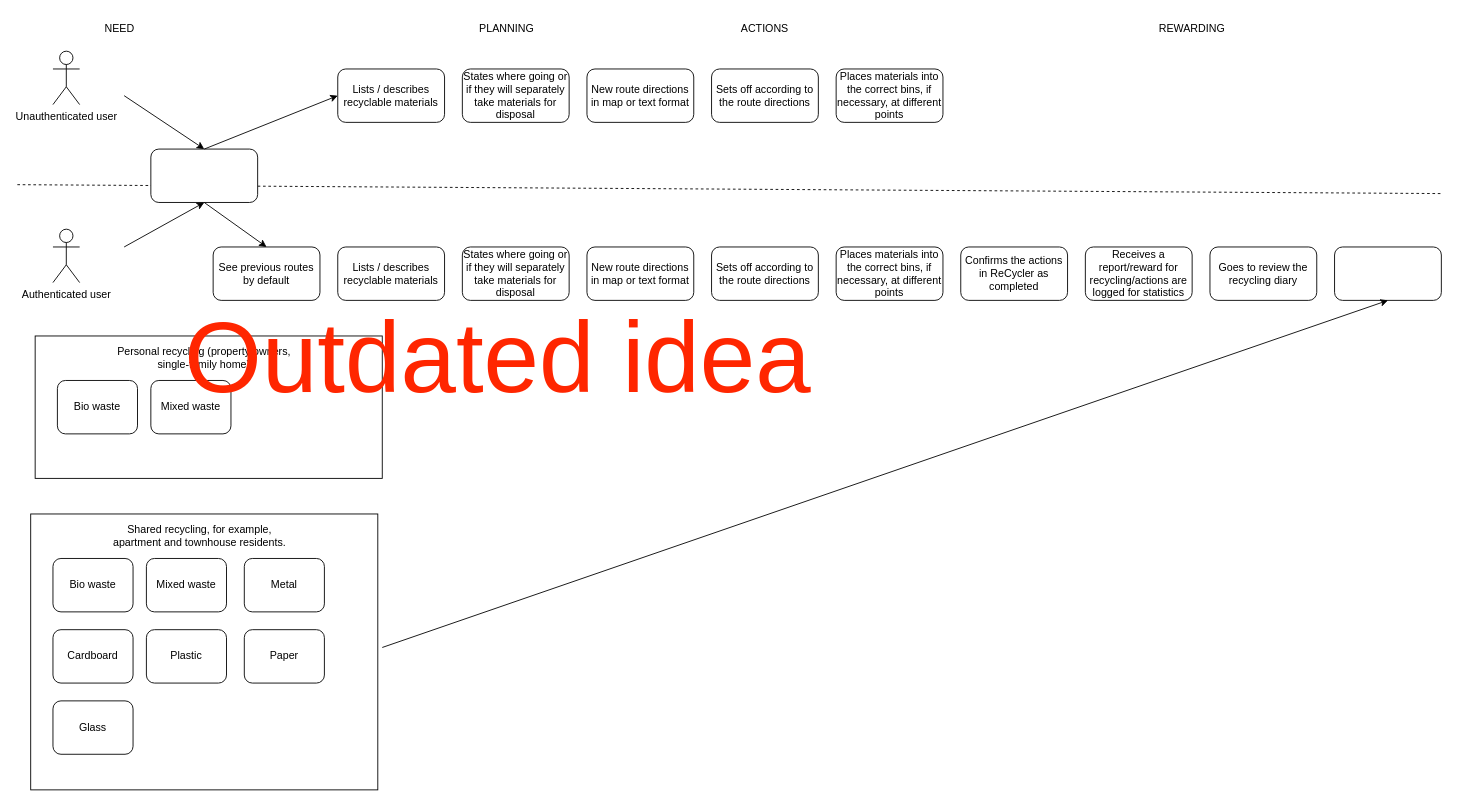
The diagram is 1458 pixels wide and 805 high, and some of its shapes have lost their labels. The centre of each missing label's shape, as x and y in pixels:
"'User-added personal locations (e.g., recycling point in an apartment building)" goes at point (1387, 273).
"Open ReCycler website and start planning" goes at point (204, 175).
